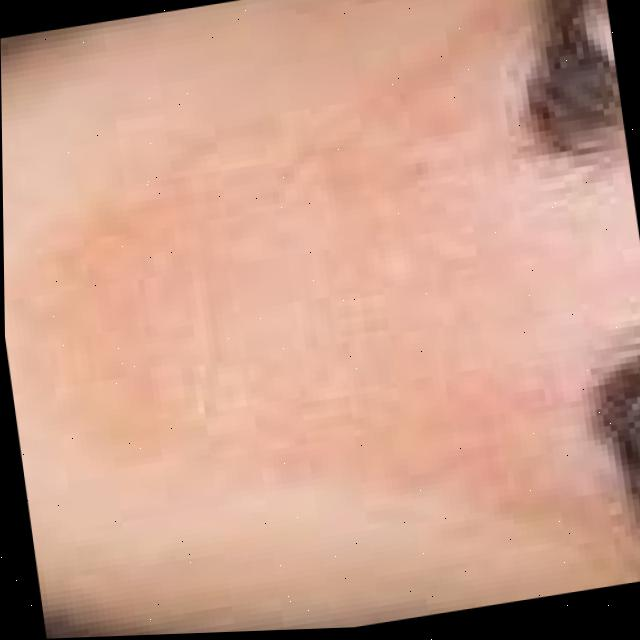Melasma: (67, 158, 490, 537)
